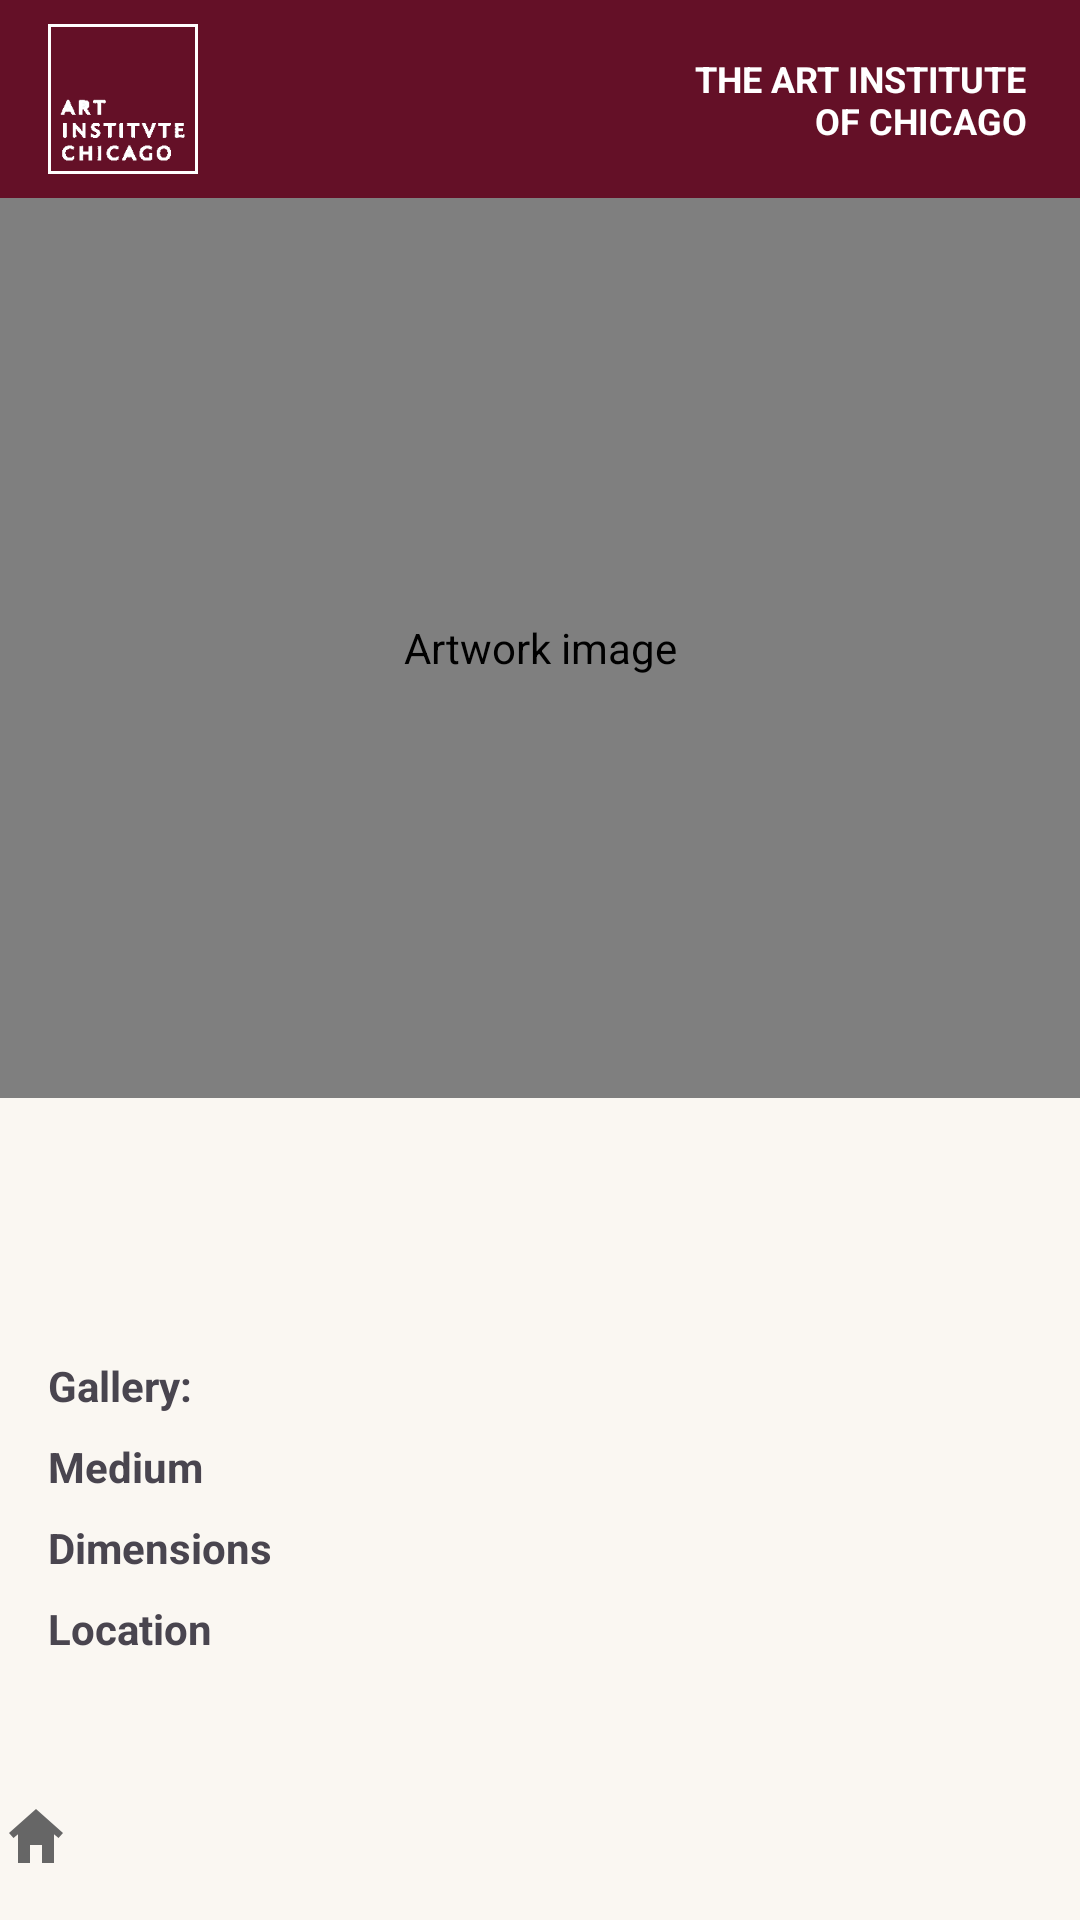

Locate icon controls on the screen. Image size 1080px x 1920px, boxes as (x1, y1, x2, y2).
home: (9, 1809, 63, 1863)
